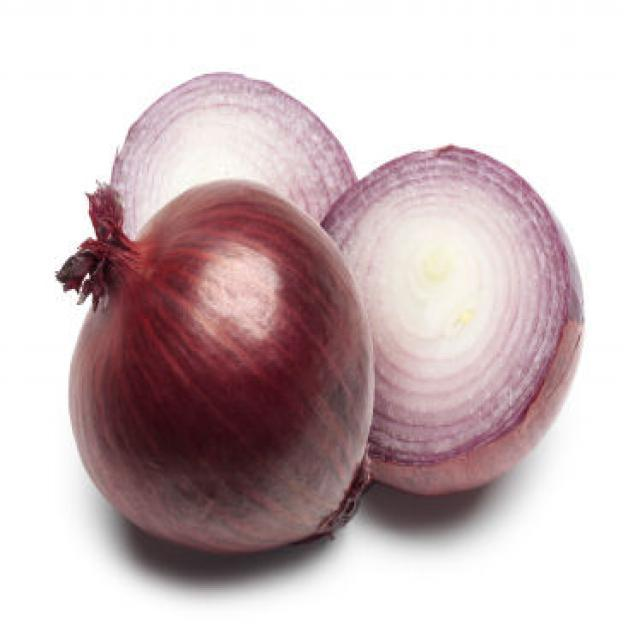onion: (63, 176, 370, 568), (319, 143, 586, 505), (98, 69, 354, 322)
